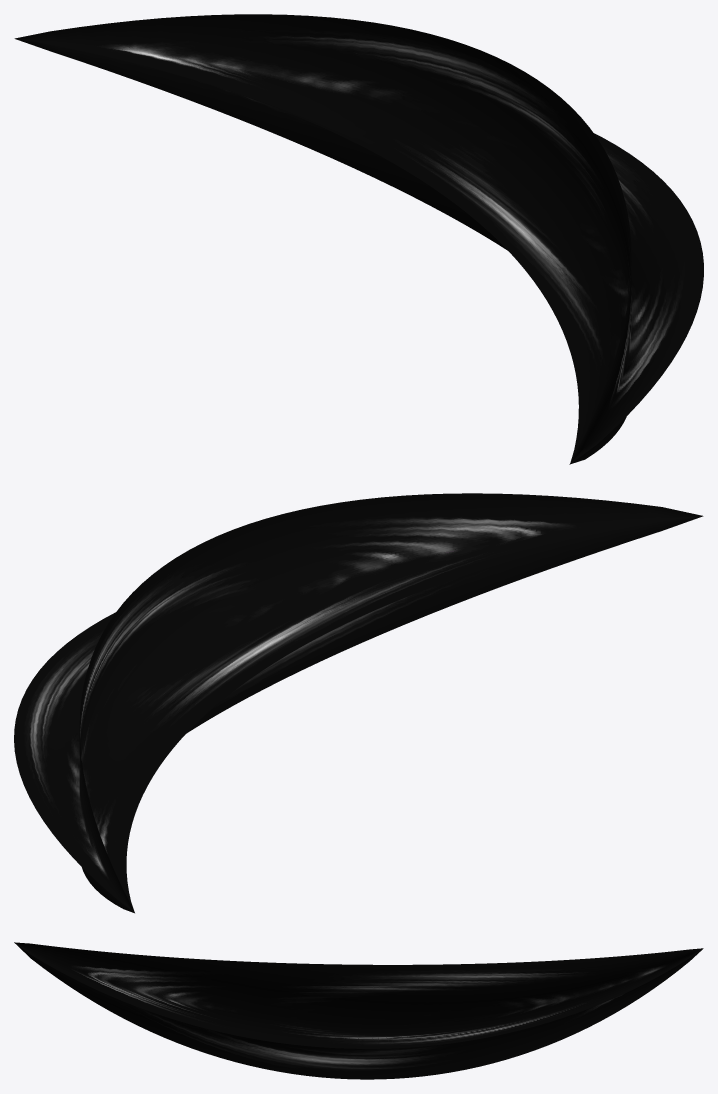
Rendered from 0480_xuanfeng_M_01.glb.
3 renders of one model, top to bottom at view 1: azimuth 30°, elevation 25°; view 2: azimuth 150°, elevation 25°; view 3: azimuth 270°, elevation 25°, orthographic. The views are drawn at different scales.
Bounding box in the file's own units: 0.8038 × 0.4039 × 2.2.
Materials: 1 (1 with a texture image).
